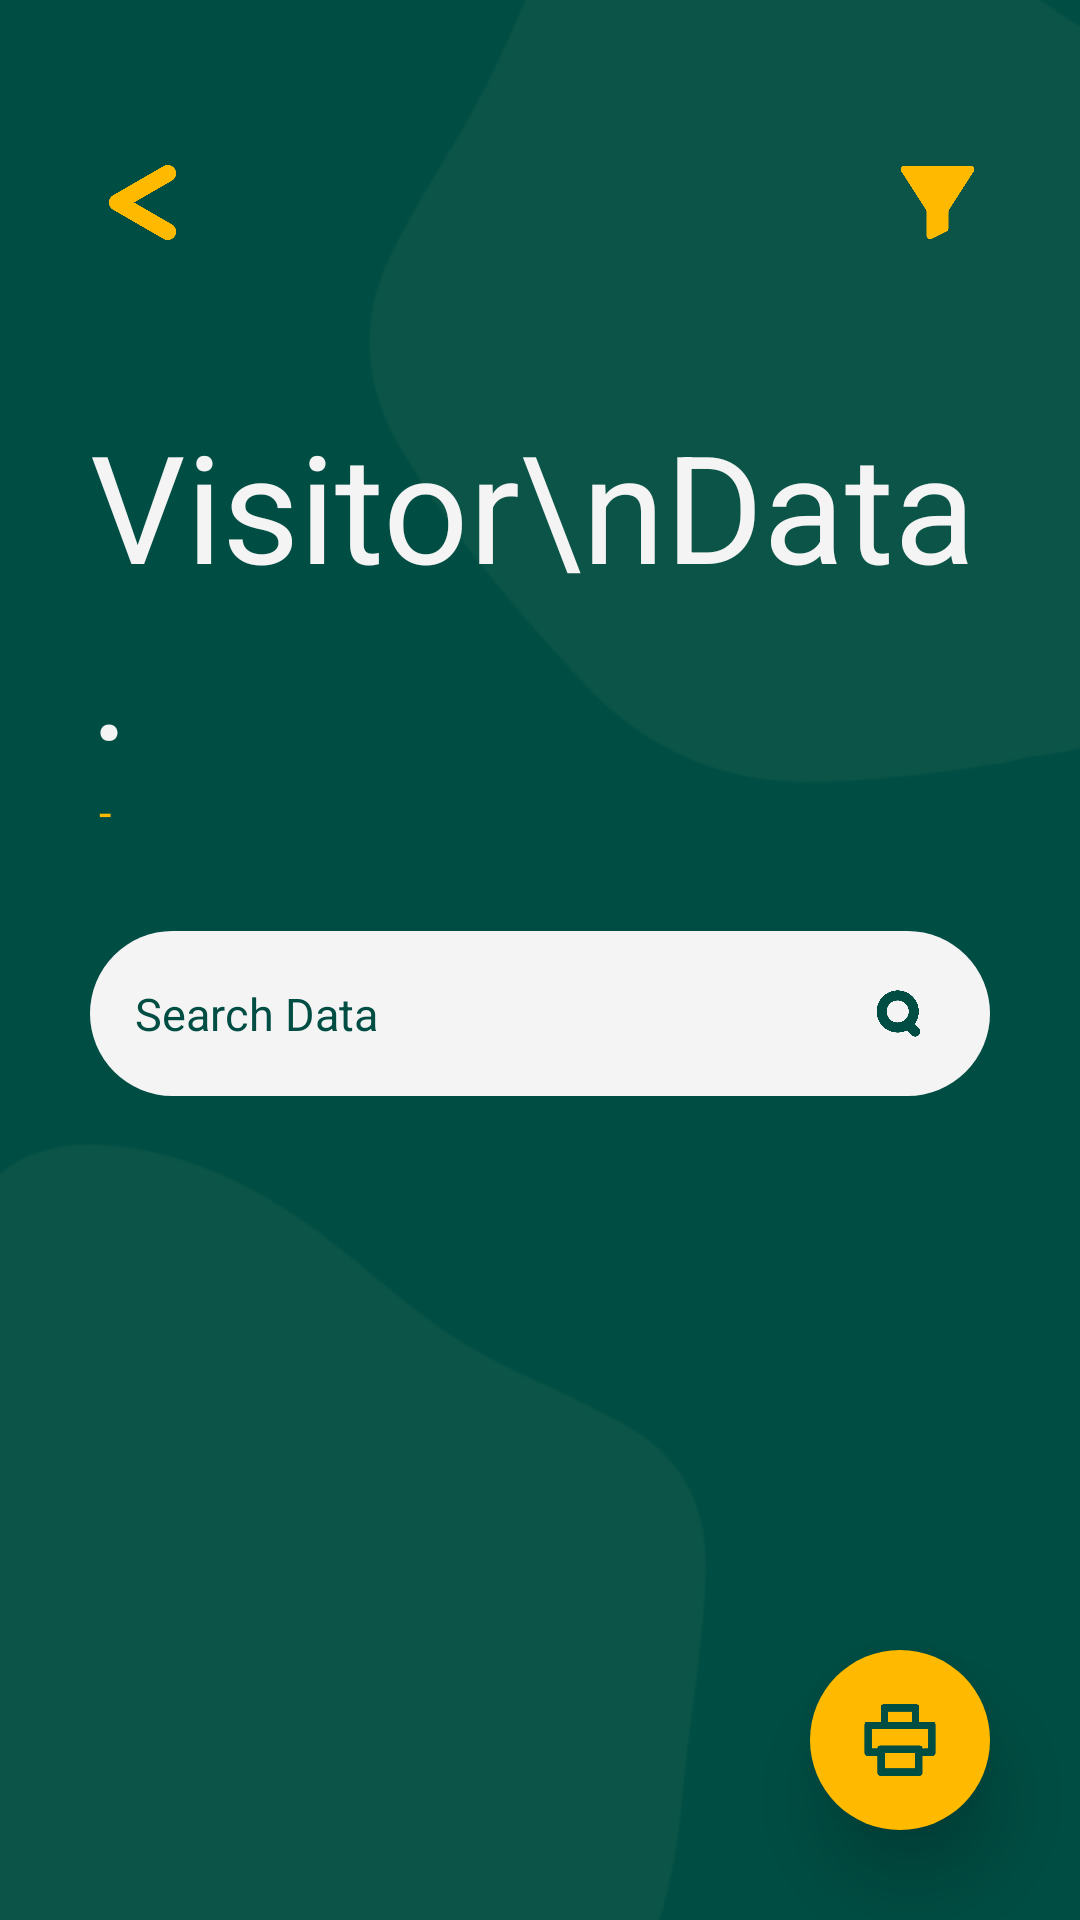

Icon bounding boxes for this 1080*1920 phone screenshot, format BBox(x1, y1, x2, y2):
back: BBox(109, 165, 176, 240)
filter: BBox(901, 166, 974, 239)
print: BBox(810, 1650, 990, 1830)
